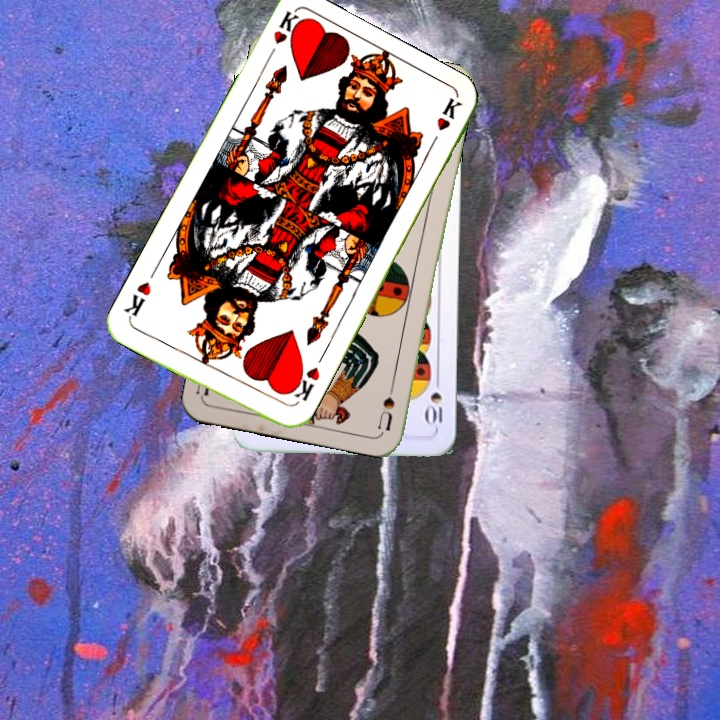HK: (262, 7, 305, 64), (284, 362, 323, 409)
S10: (424, 371, 445, 427)
SU: (374, 373, 398, 433)
